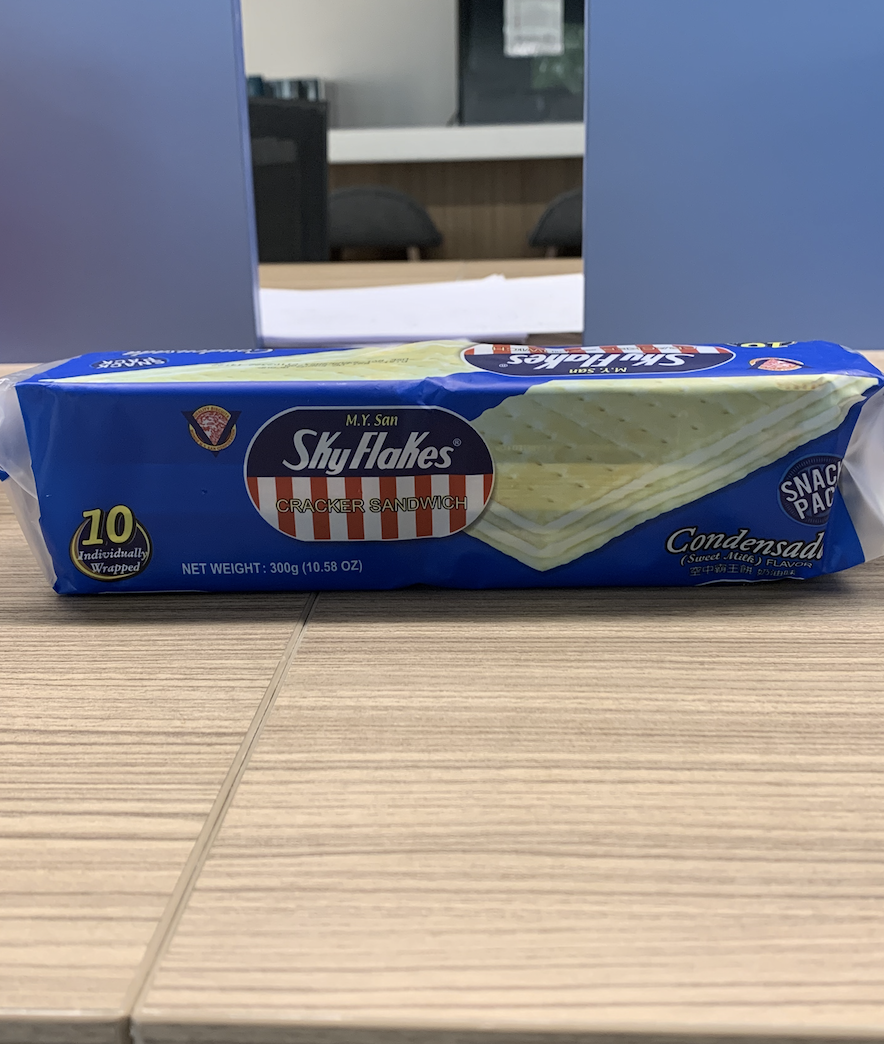crackers_300g-399g: (57, 365, 845, 586)
